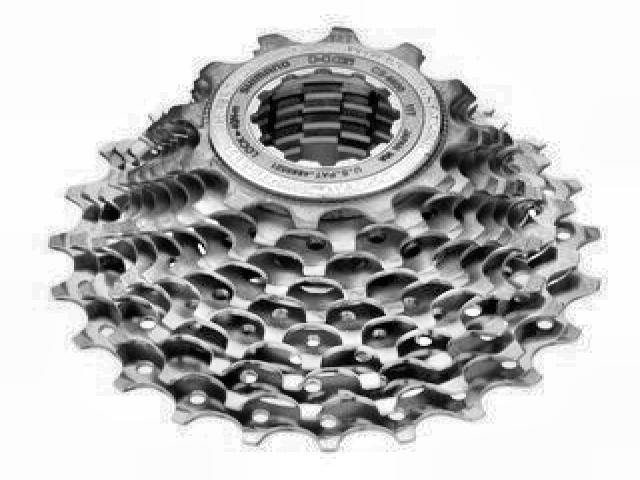cassette: (46, 23, 604, 452)
